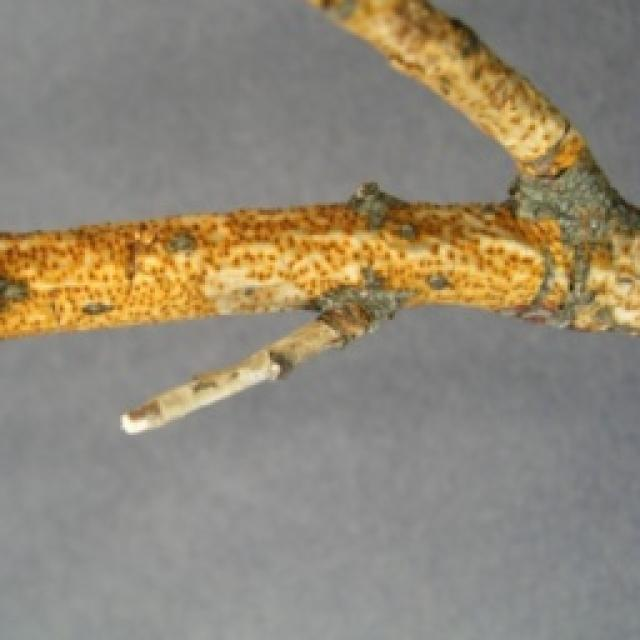Golden_canker: (29, 3, 640, 401)
